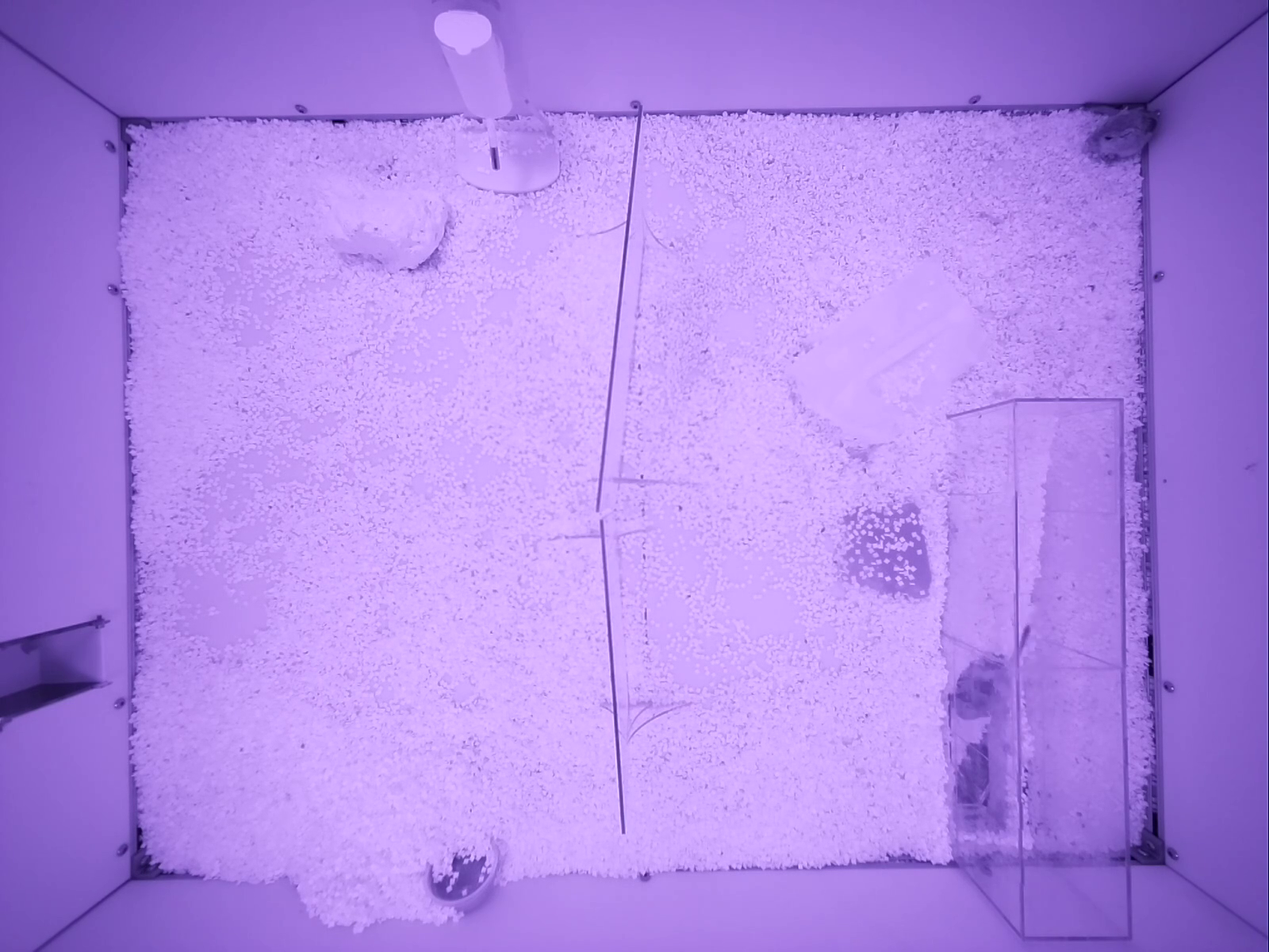adult_back: (952, 625, 1029, 719), (1084, 103, 1159, 163)
